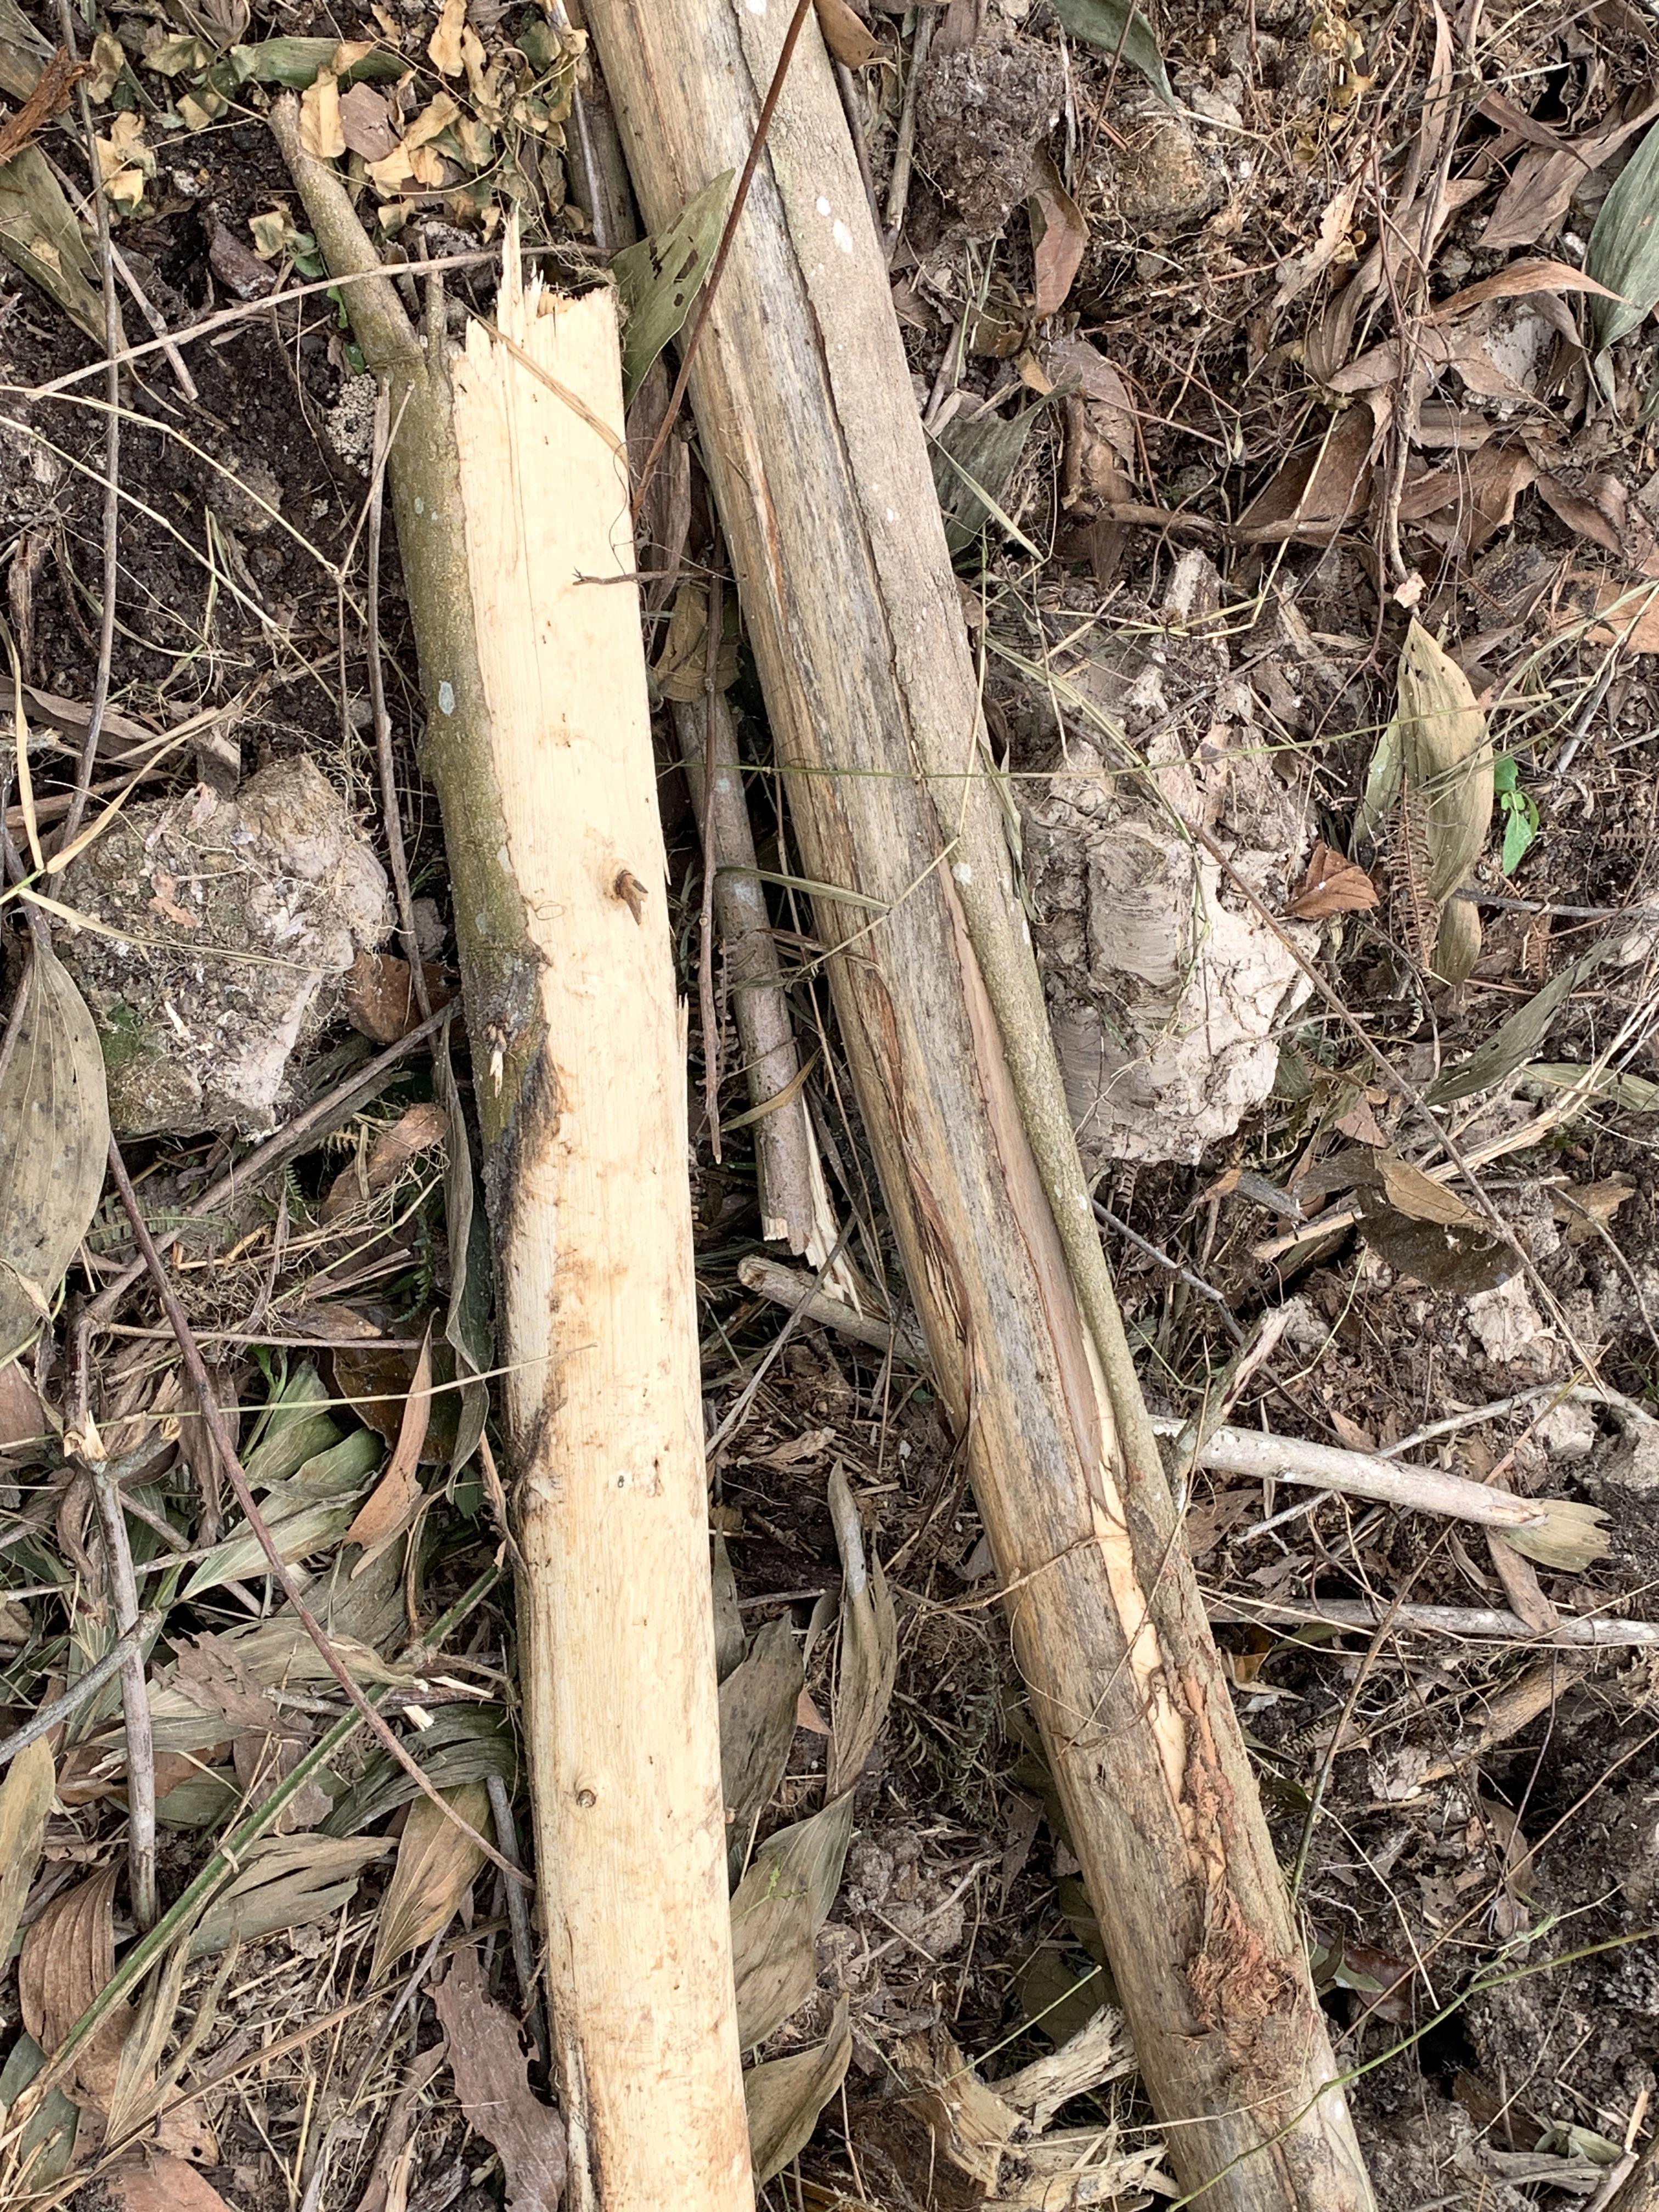Mammals Attack: (401, 247, 770, 2212)
